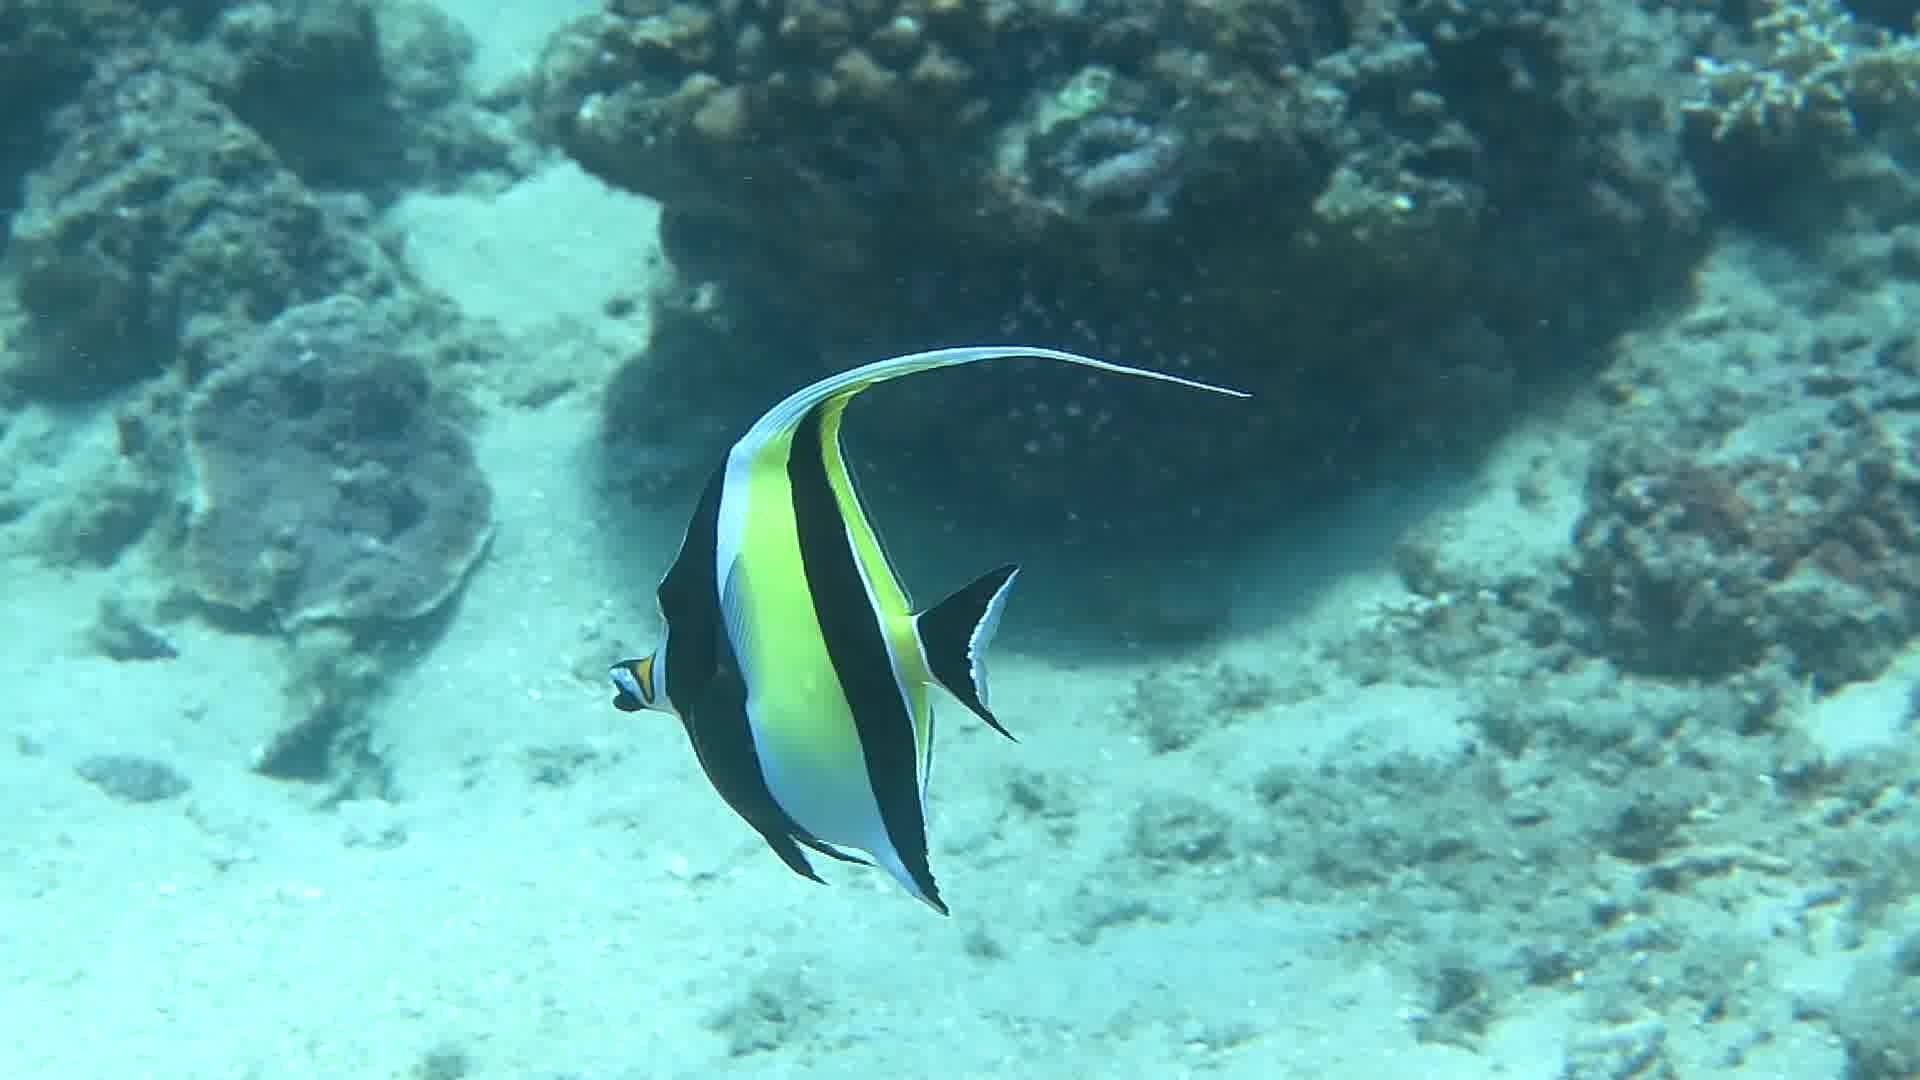Zanclus cornutus: (588, 324, 1145, 877)
